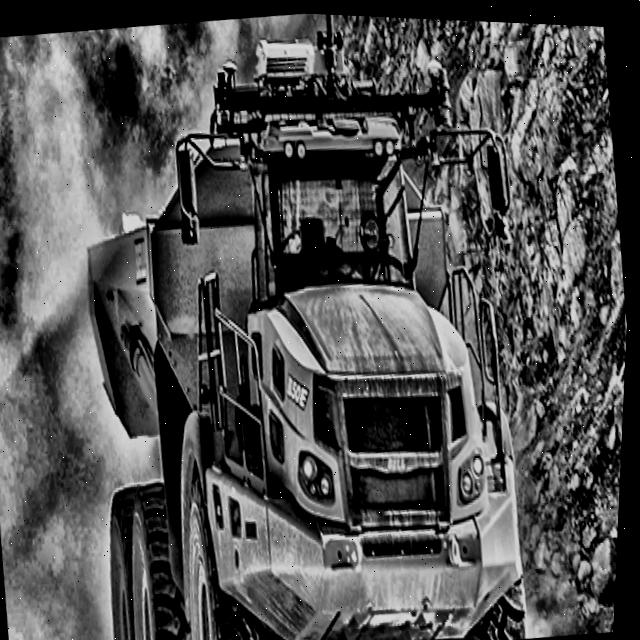dump_truck: (4, 1, 613, 640)
